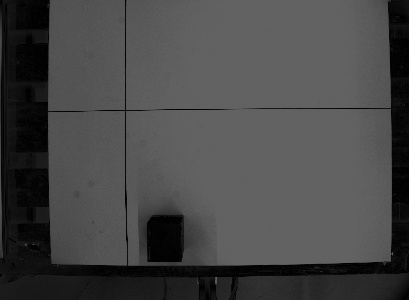b7: (143, 213, 188, 264)
